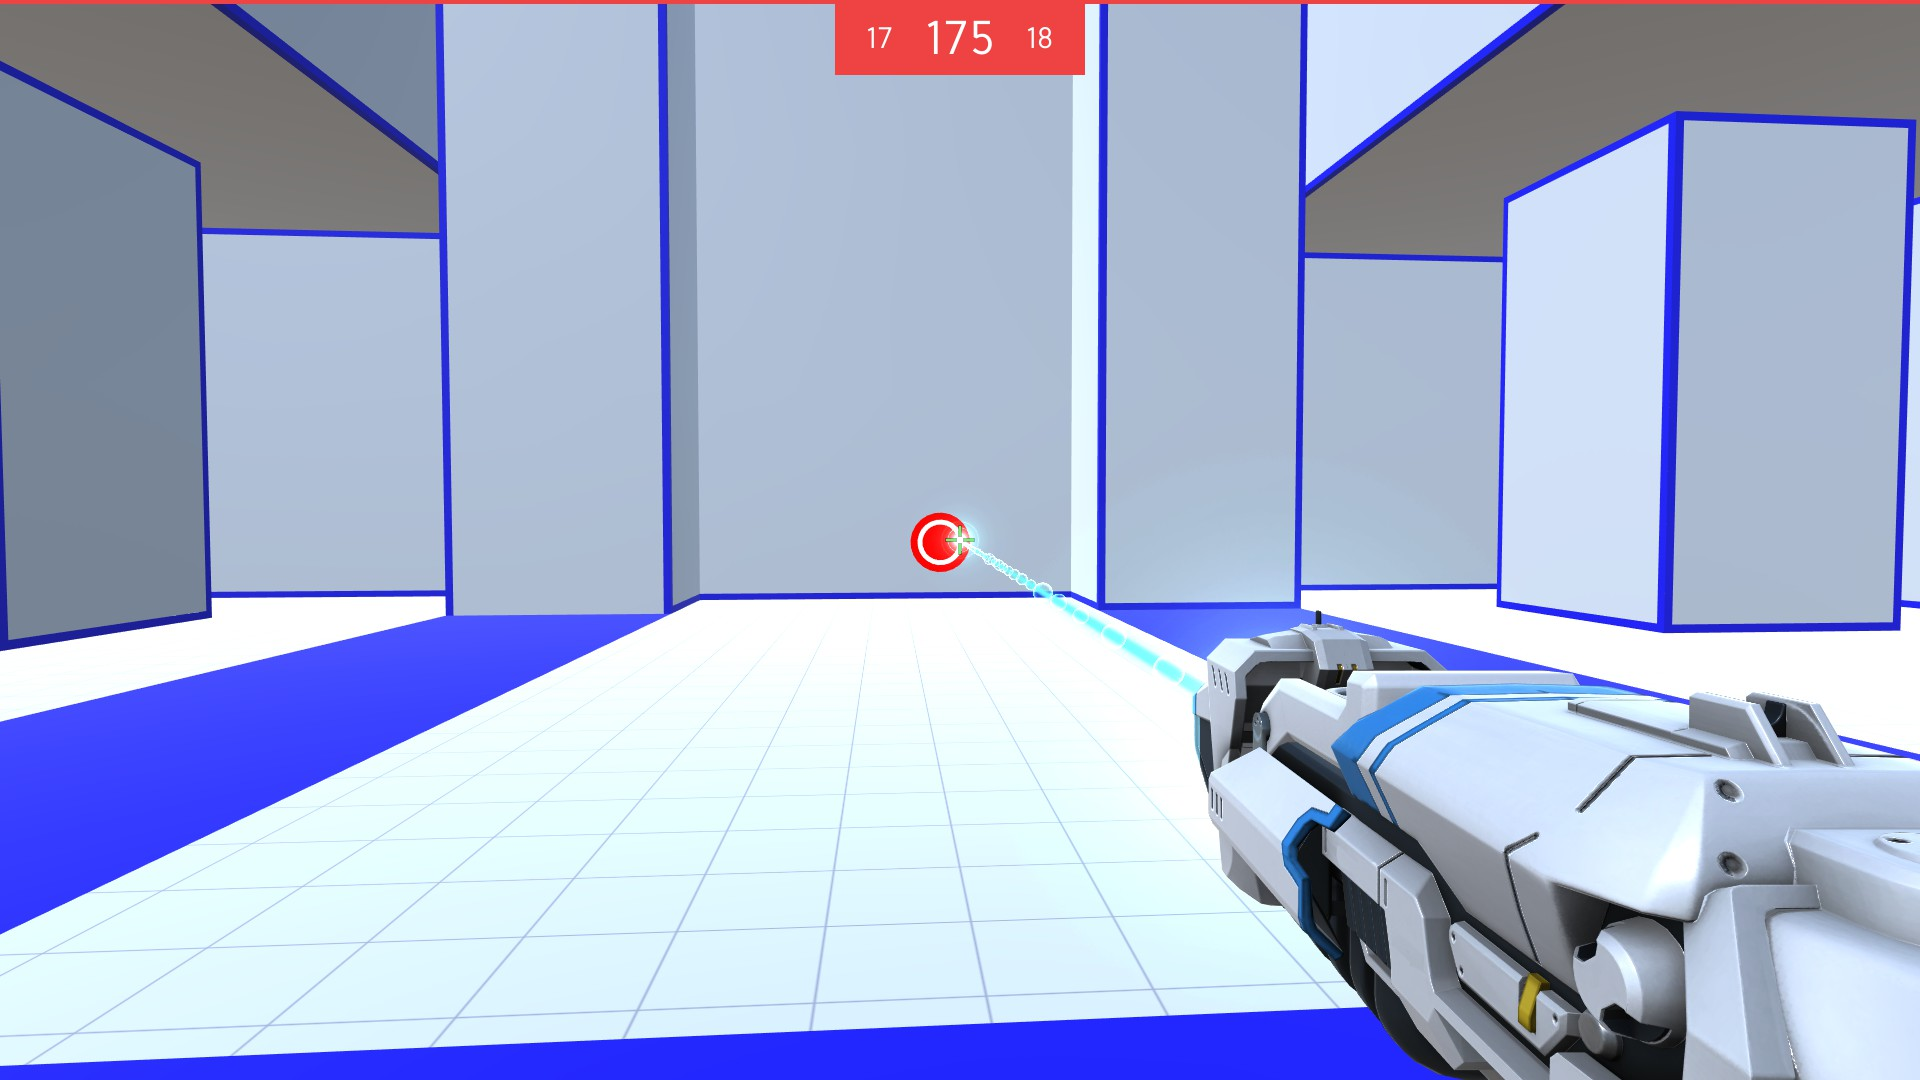target: (907, 513, 976, 574)
